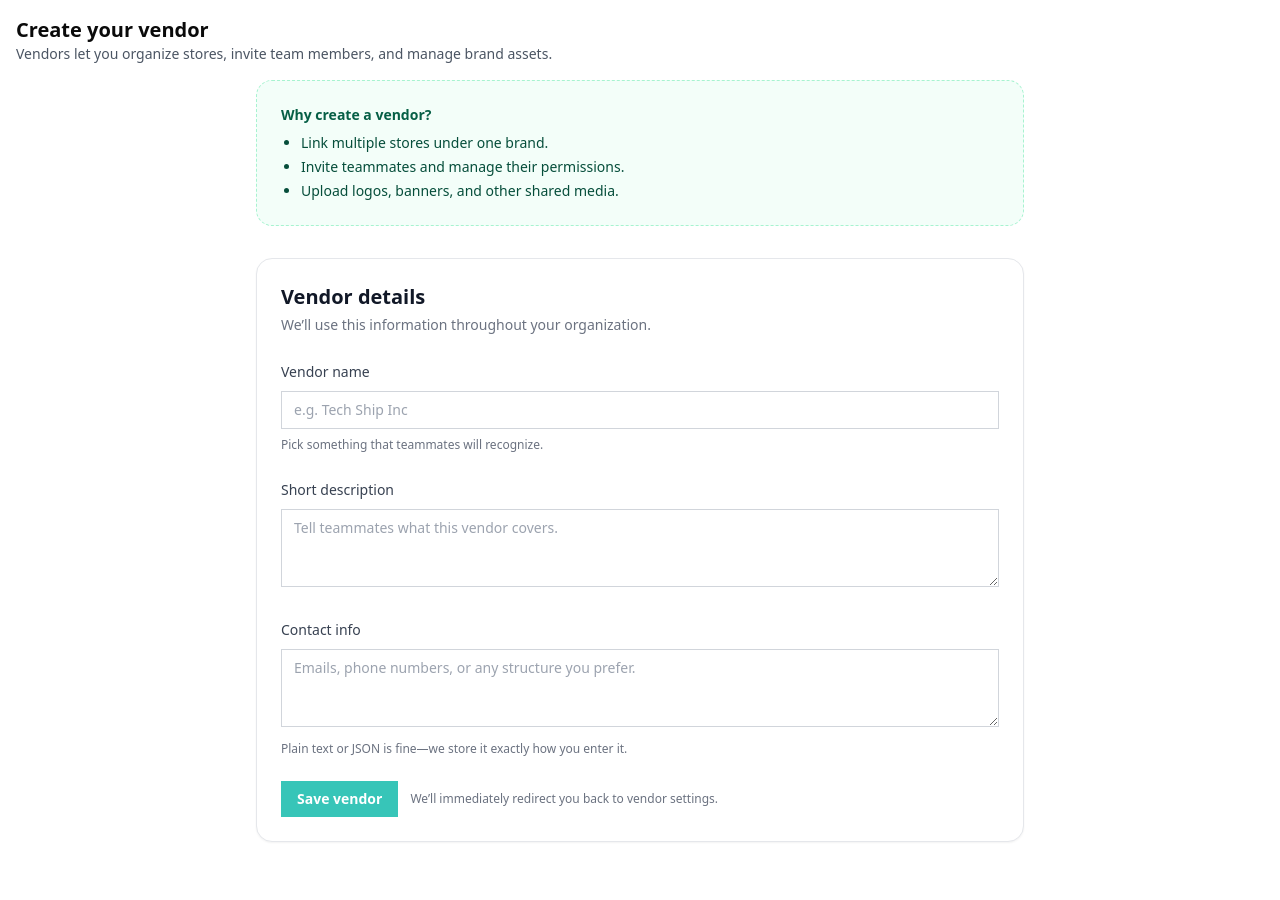
Test: CreateVendorPage › displays validation errors when required fields missing
What coordinates should you click on to do the following:
click the button "Save vendor"
I would click on:
 (340, 799)
Its box is [281,781,398,817].
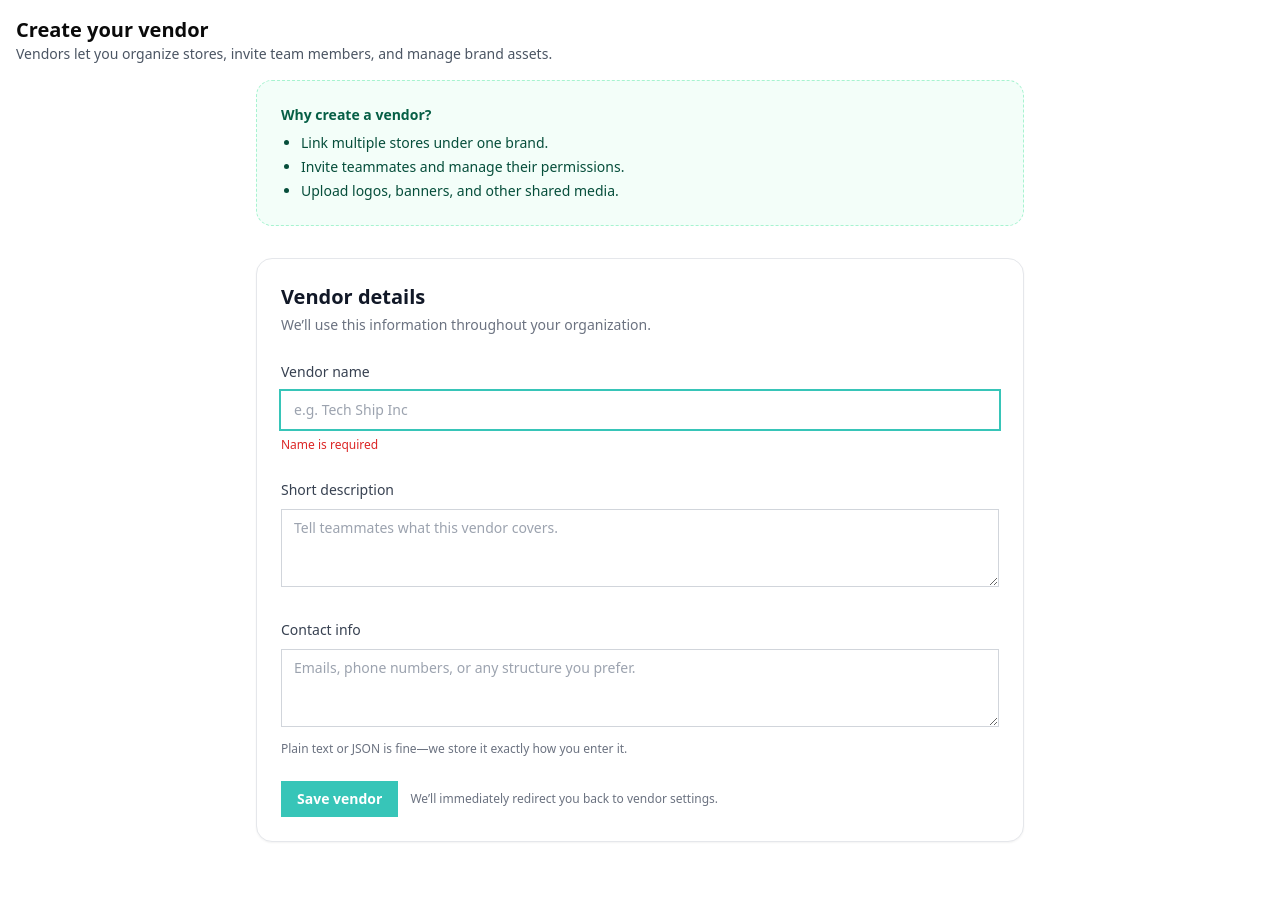
Check: the text "Name is required" is shown, box [281,436,378,453]
